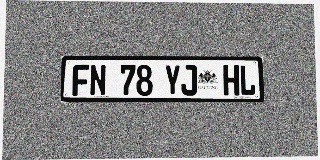7: (119, 65, 136, 96)
8: (136, 65, 153, 96)
F: (72, 65, 89, 96)
H: (223, 65, 239, 95)
J: (181, 65, 197, 96)
L: (239, 65, 256, 95)
N: (89, 65, 106, 96)
Y: (164, 65, 180, 96)
